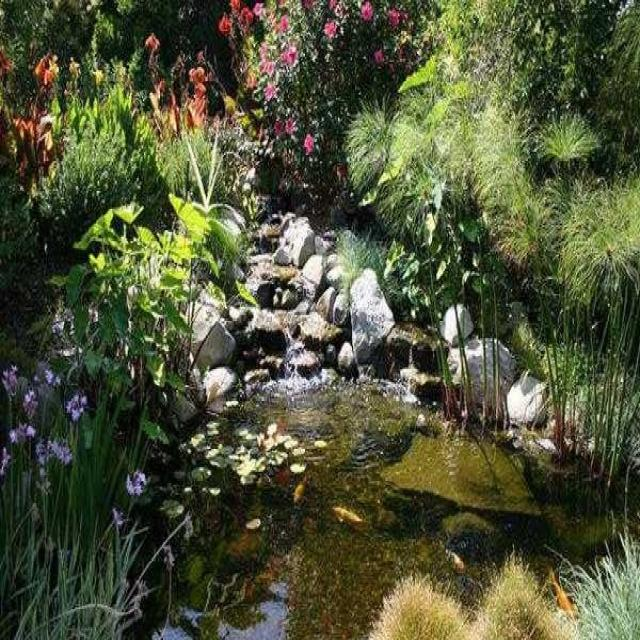Ponds: (119, 204, 640, 634)
